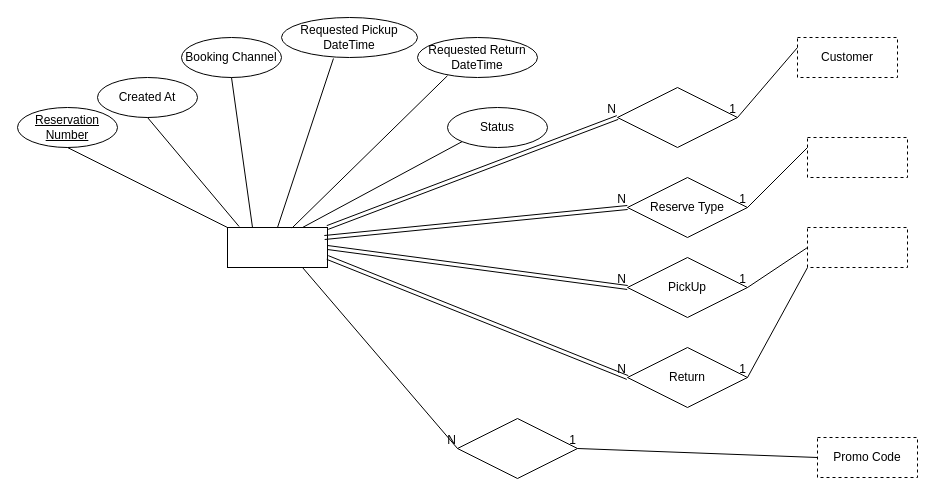
Some shapes in this 935 by 496 pixel diagram are drawn without their labels. The centre of each missing label's shape, as x and y in pixels:
Branch: (857,247)
Category: (857,157)
Reservation: (277,247)
Reserve: (677,117)
Use: (517,448)
